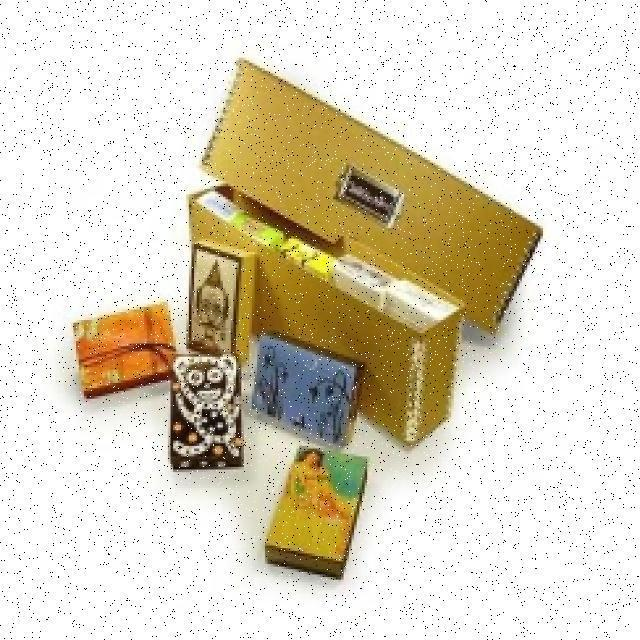box: (207, 41, 566, 408), (257, 446, 379, 594), (252, 328, 363, 444), (62, 302, 172, 406), (171, 250, 257, 370), (165, 347, 238, 466)
